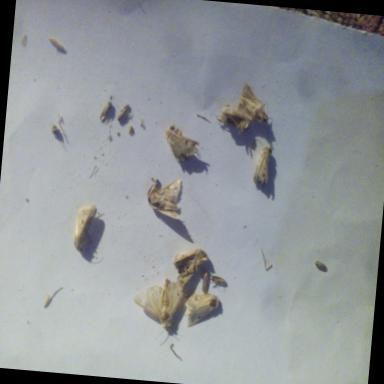abw: (127, 278, 187, 340), (140, 172, 190, 221), (160, 119, 206, 170), (67, 200, 102, 258), (180, 288, 224, 332), (168, 246, 212, 288), (234, 82, 276, 125), (216, 100, 256, 140), (249, 144, 278, 193)
